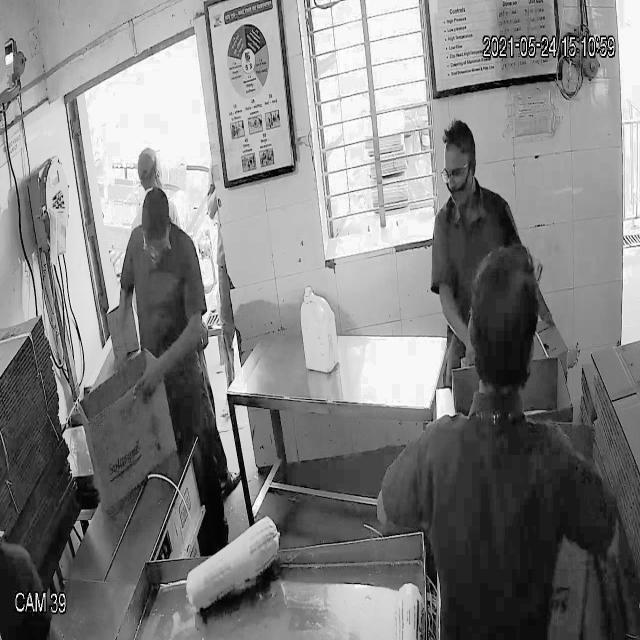glasses: (441, 158, 476, 187)
